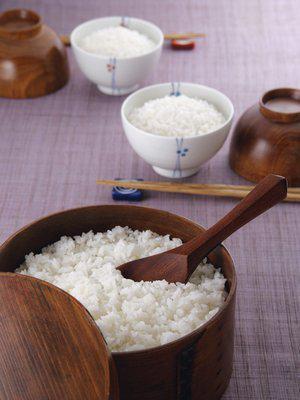ssalbab: (9, 222, 230, 355)
